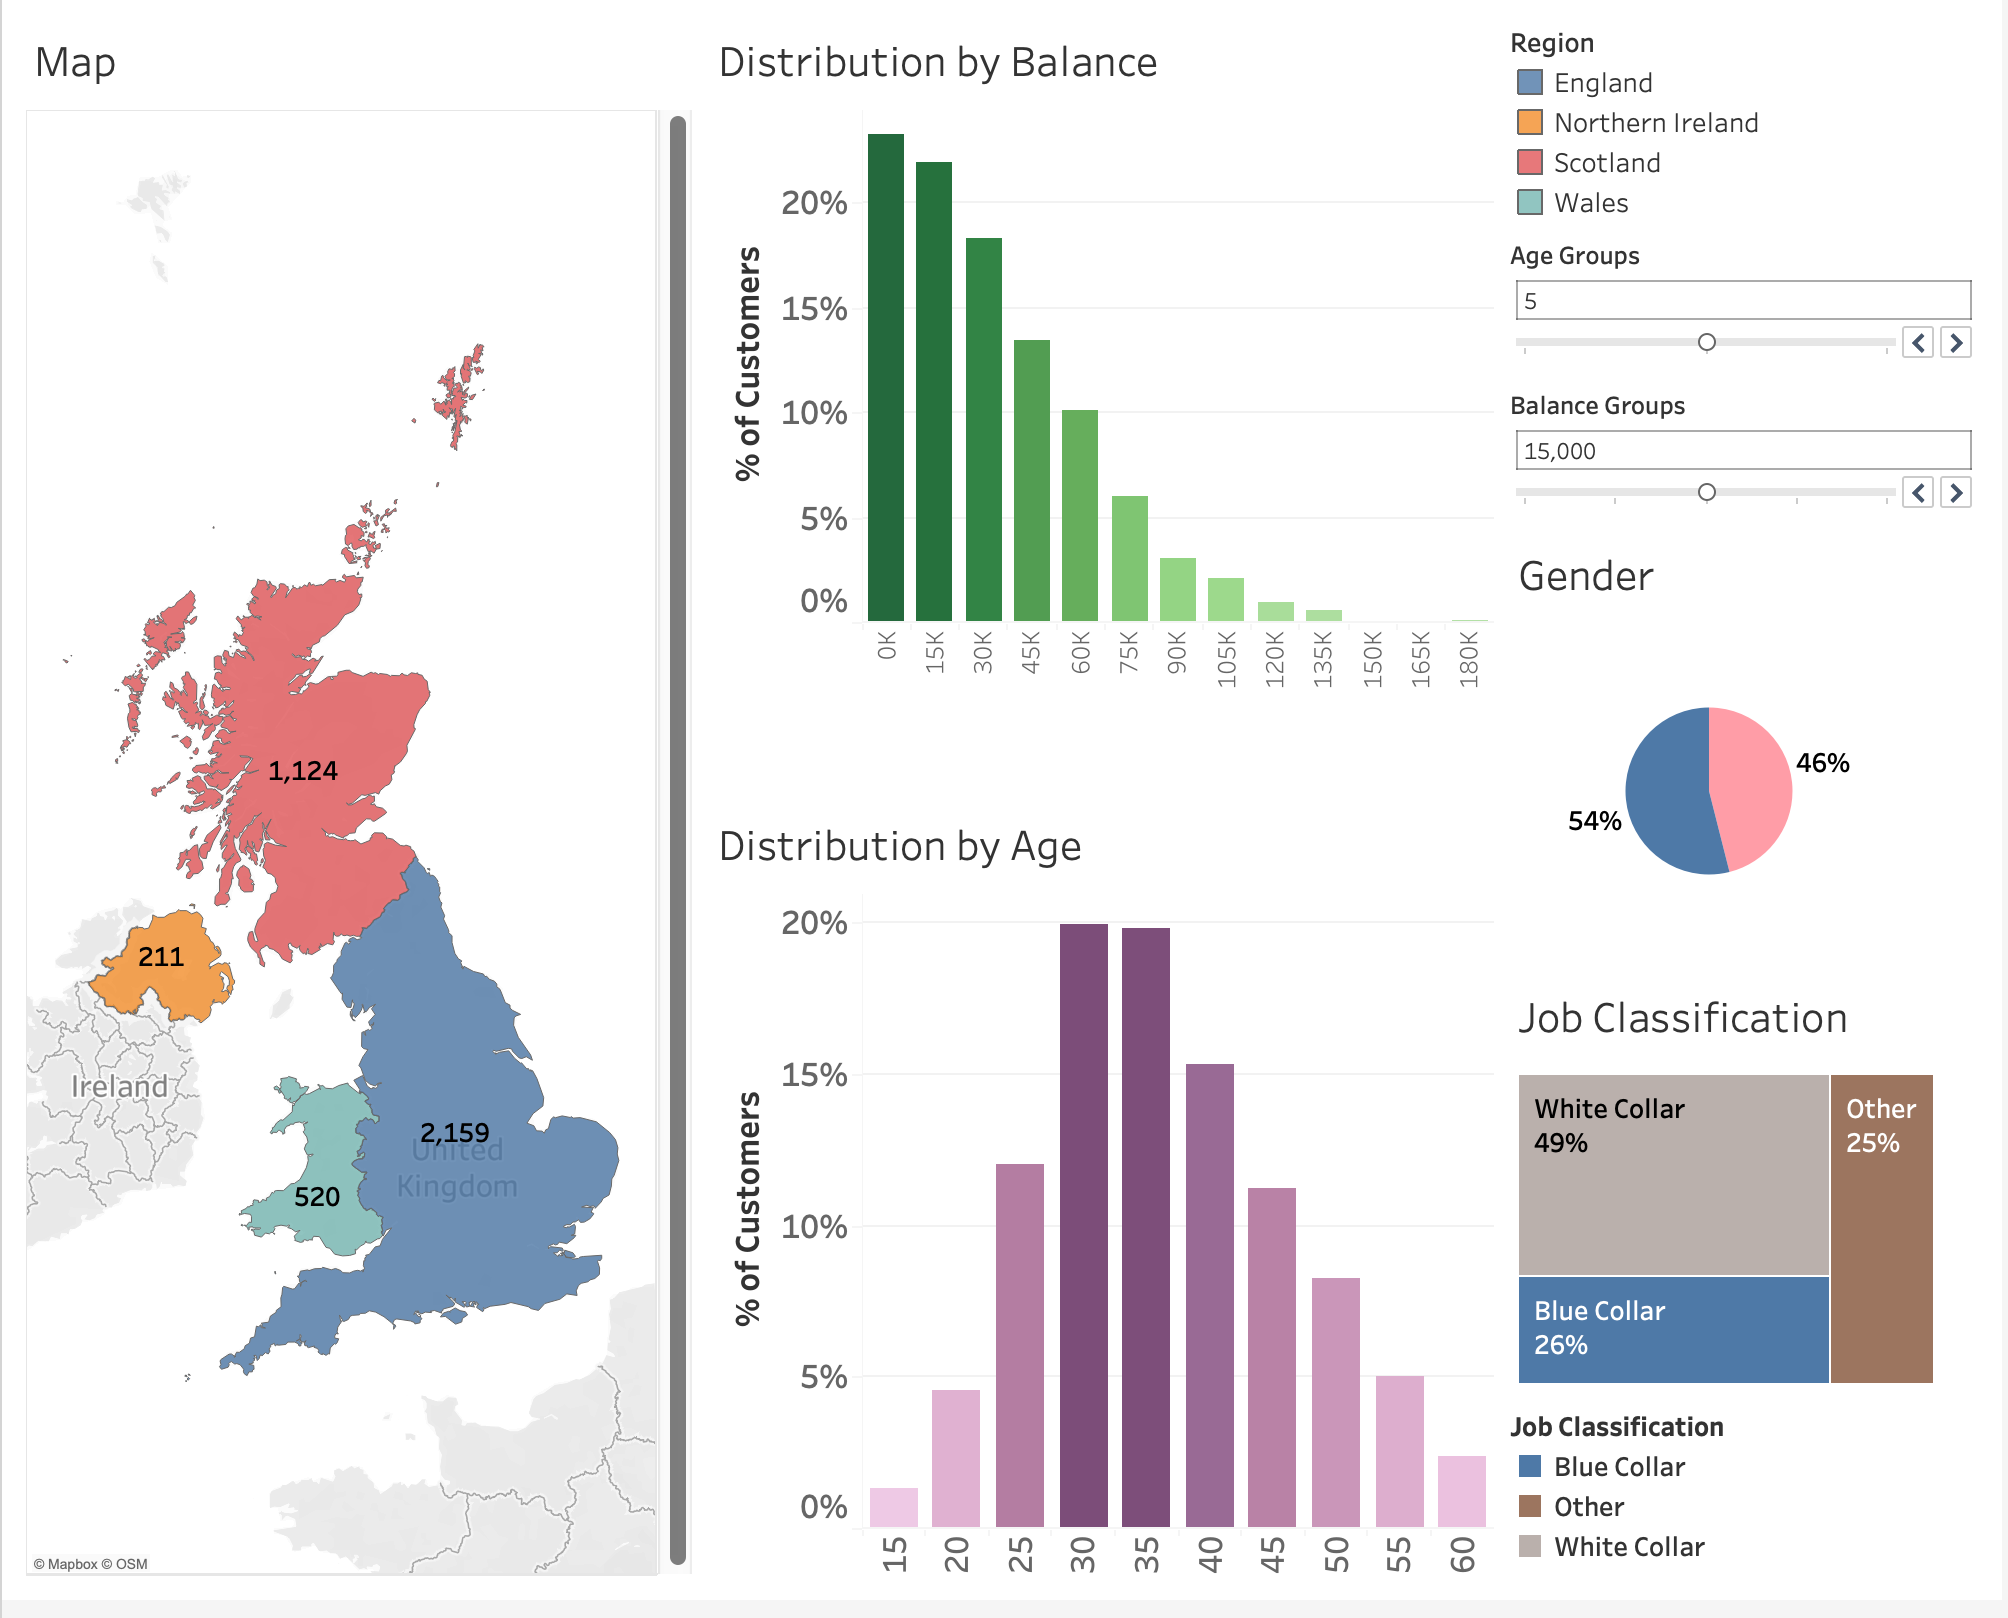

The page's visual inventory and layout, read from the dashboard file:
{"tool":"tableau","page":{"name":"Dashboard 1","canvas":[1000,800],"ordinal":0},"visuals":[{"type":"worksheet","title":"Map","mark":"Multipolygon","box":[8,8,341.5,784]},{"type":"worksheet","title":"Distribution by Balance","mark":"Bar","rows":["P1-UK-Bank-Customers.csv_7024197F15824FAC91569A81ABA52268"],"cols":["Balance (bin)"],"box":[349.5,8,400.5,392]},{"type":"legend","title":"Map","param":"[federated.1v7zt2910fum2o12iii5a1g2wnb8].[none:Region:nk]","box":[750,8,242,107]},{"type":"parameter","param":"[Parameters].[Parameter 2]","box":[750,115,242,75]},{"type":"parameter","param":"[Parameters].[Parameter 1]","box":[750,190,242,75]},{"type":"worksheet","title":"Gender","mark":"Pie","box":[750,265,242,221]},{"type":"worksheet","title":"Distribution by Age","mark":"Bar","rows":["P1-UK-Bank-Customers.csv_7024197F15824FAC91569A81ABA52268"],"cols":["Age (bin)"],"box":[349.5,400,400.5,392]},{"type":"worksheet","title":"Job Classification","mark":"Automatic","box":[750,486,242,214]},{"type":"legend","title":"Job Classification","param":"[federated.1v7zt2910fum2o12iii5a1g2wnb8].[none:Job Classification:nk]","box":[750,700,242,87]}]}

Visuals, with their boxes in screenshot pixels (x1, y1, x2, y2), scaled from the page's 1000x800 canvas onto the 2008x1618 screenshot:
"Map" worksheet (Multipolygon marks): box(16, 16, 702, 1602)
"Distribution by Balance" worksheet (Bar marks): box(702, 16, 1506, 809)
"Map" legend: box(1506, 16, 1992, 233)
parameter: box(1506, 233, 1992, 384)
parameter: box(1506, 384, 1992, 536)
"Gender" worksheet (Pie marks): box(1506, 536, 1992, 983)
"Distribution by Age" worksheet (Bar marks): box(702, 809, 1506, 1602)
"Job Classification" worksheet: box(1506, 983, 1992, 1416)
"Job Classification" legend: box(1506, 1416, 1992, 1592)
